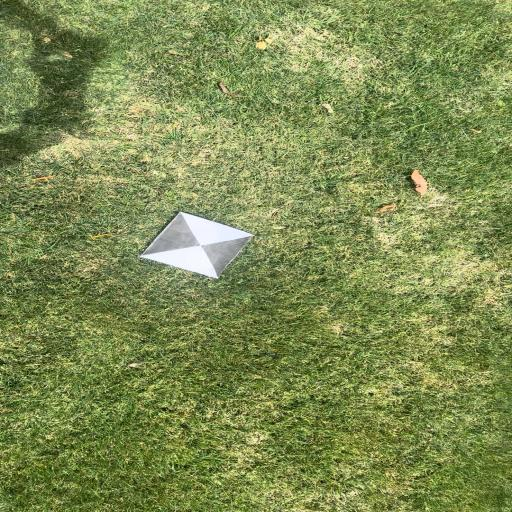target: (140, 212, 253, 278)
